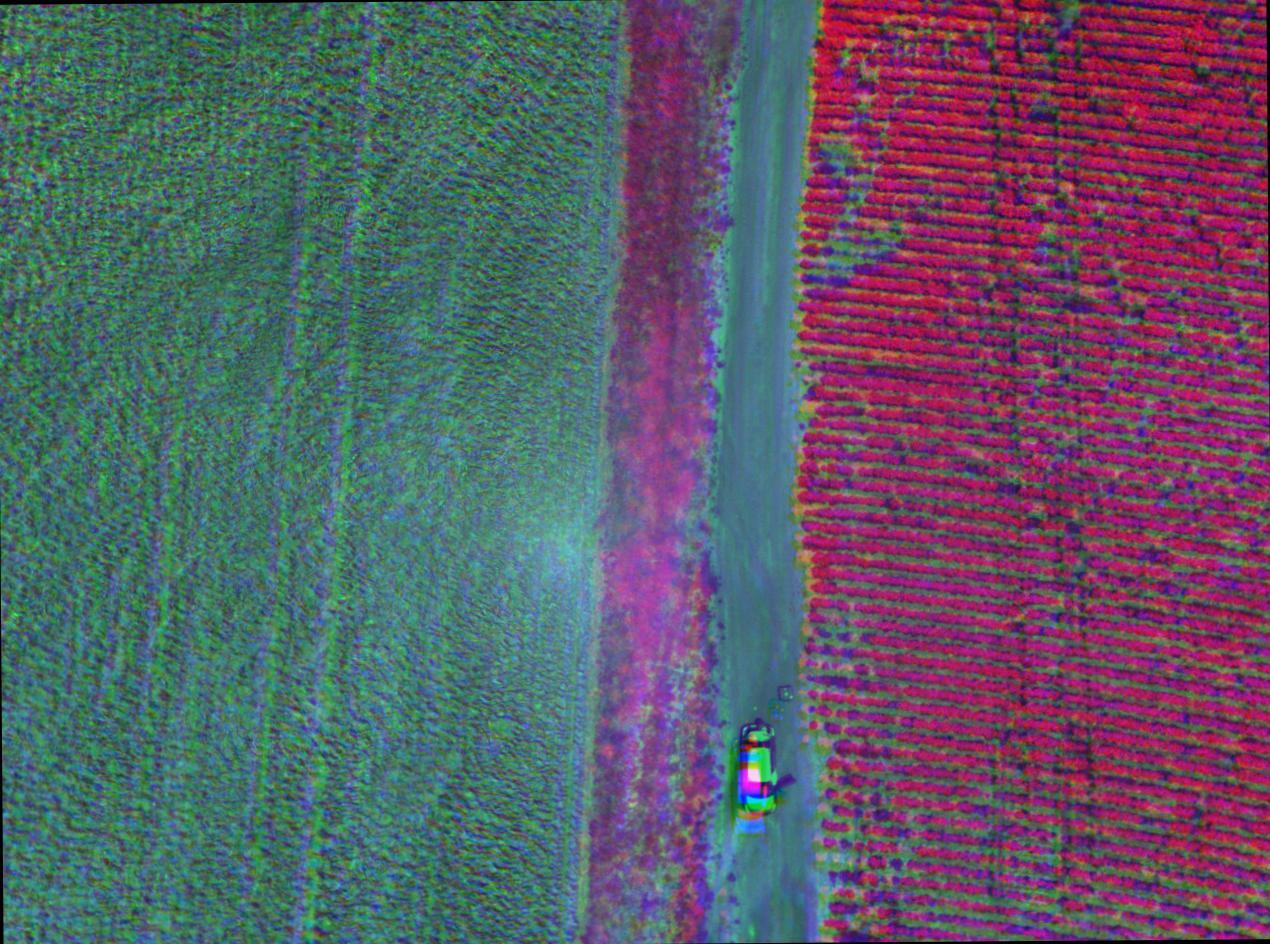dc: (951, 765, 1147, 944), (816, 763, 889, 913), (813, 590, 890, 702), (811, 203, 905, 293), (813, 118, 895, 195)
